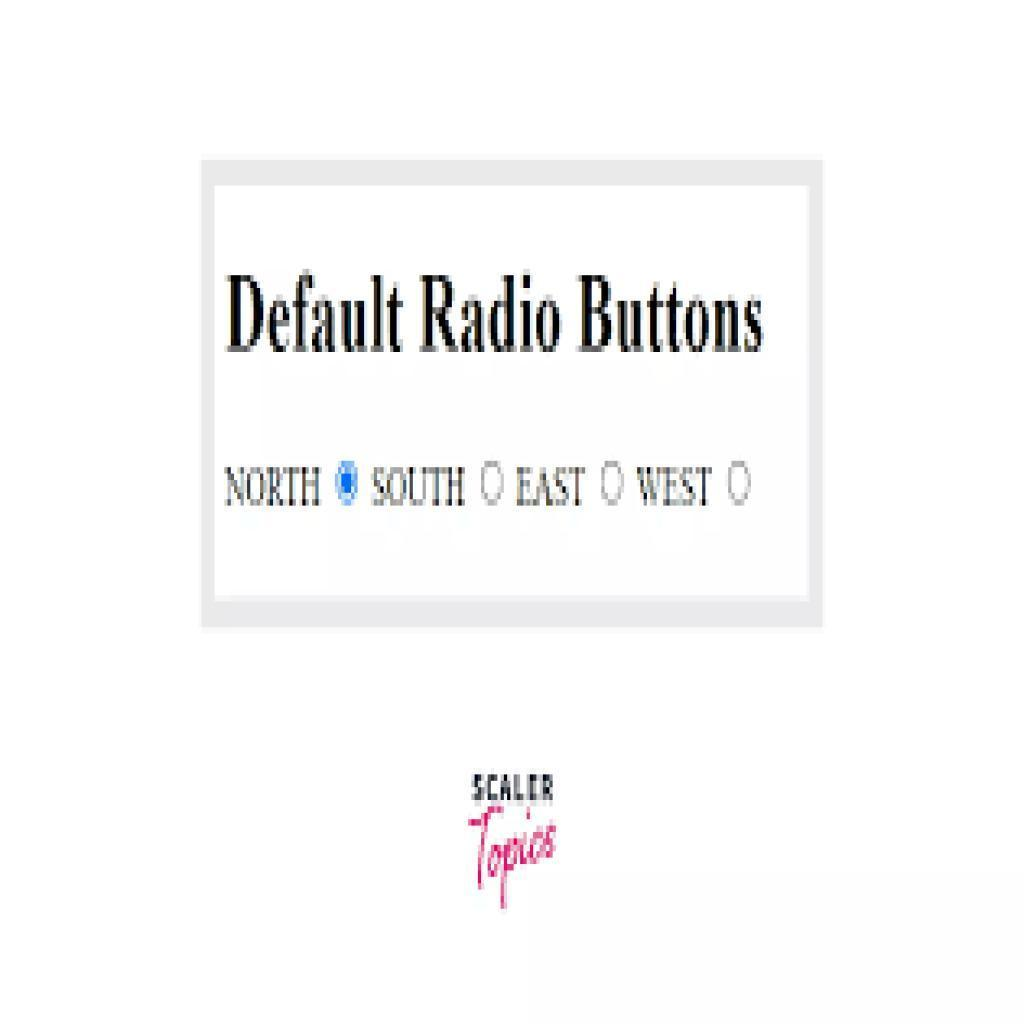radio: (478, 450, 508, 519), (603, 450, 626, 525), (723, 461, 758, 508), (337, 447, 359, 517)
